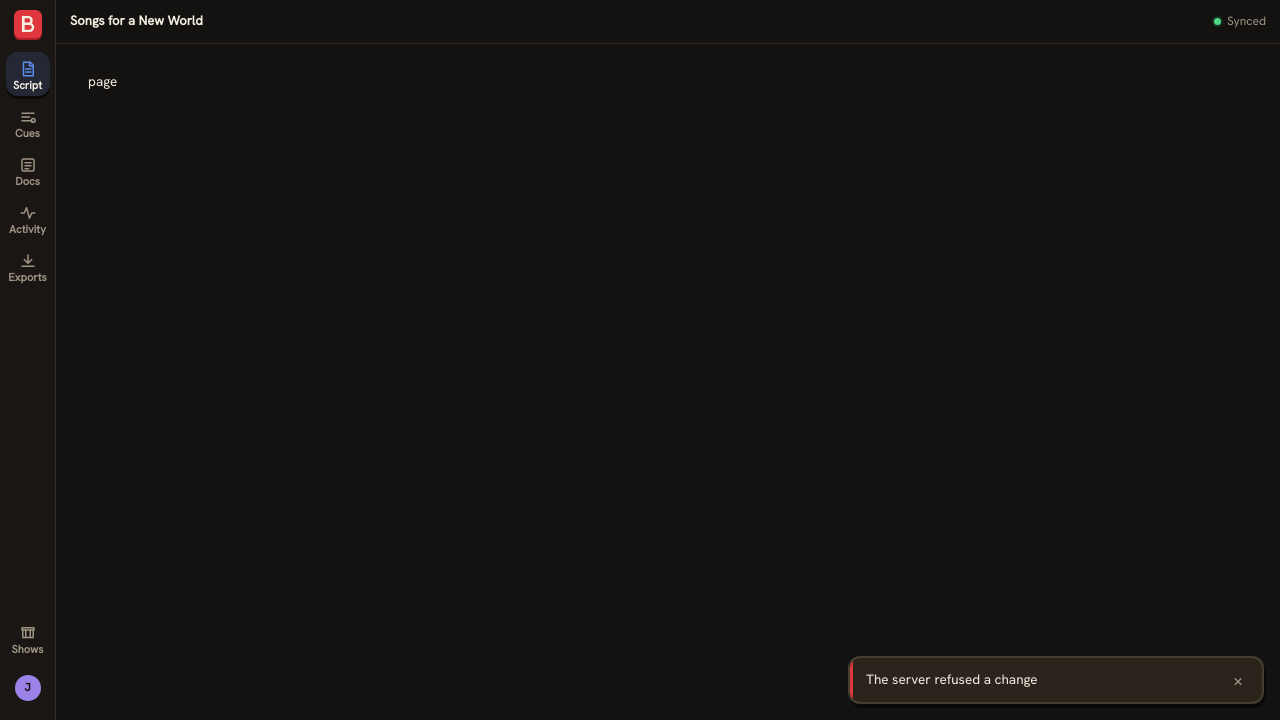
Test case: Notices › announces a notice and dismisses it
The width and height of the screenshot is (1280, 720).
Expected: the element showing "page" is shown, [88,72,117,90]
Expected: the message shows "The server refused a change", [866,670,1038,688]
Click the button named "Dismiss notice" at [1238, 680], box [1222,664,1254,696]
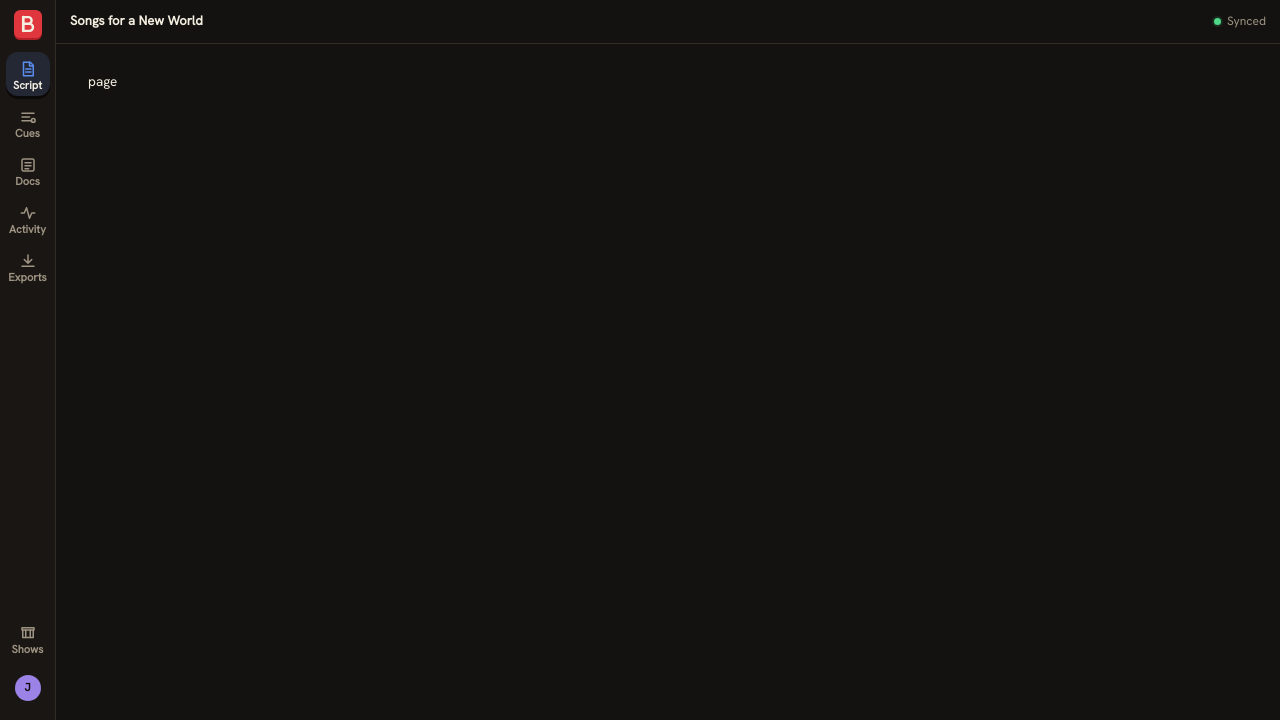
Expected: the message "The server refused a change ×" is gone
